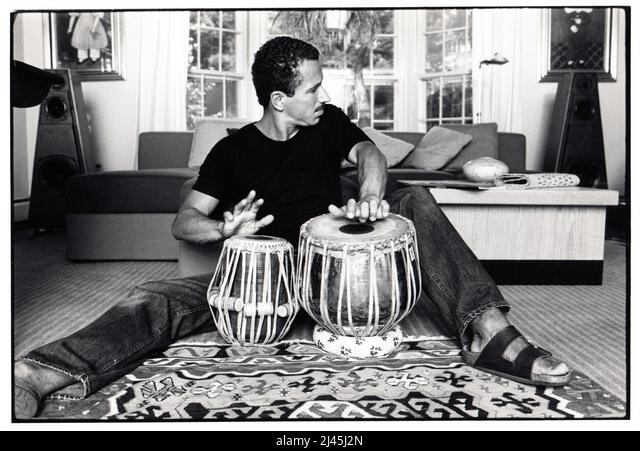tabla: (300, 210, 424, 333), (206, 236, 299, 337)
